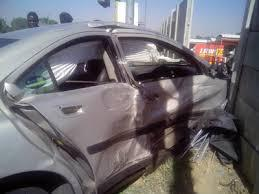doorouter-dent: (43, 73, 138, 173), (129, 55, 212, 148)
